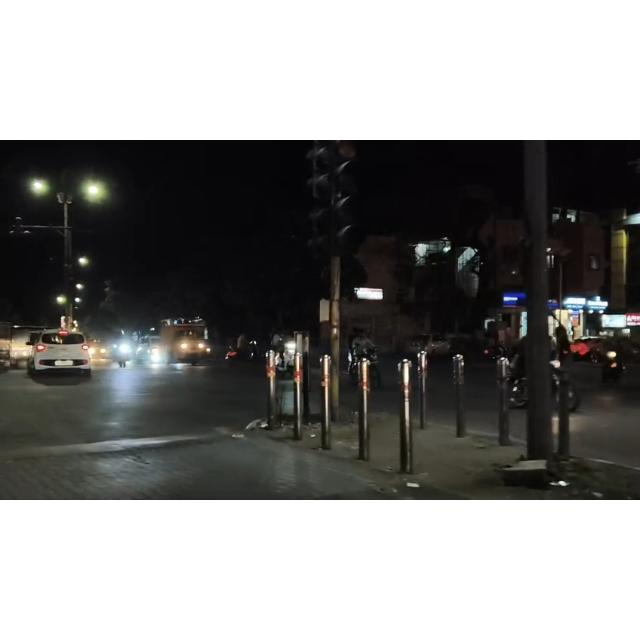car: (26, 325, 100, 379)
